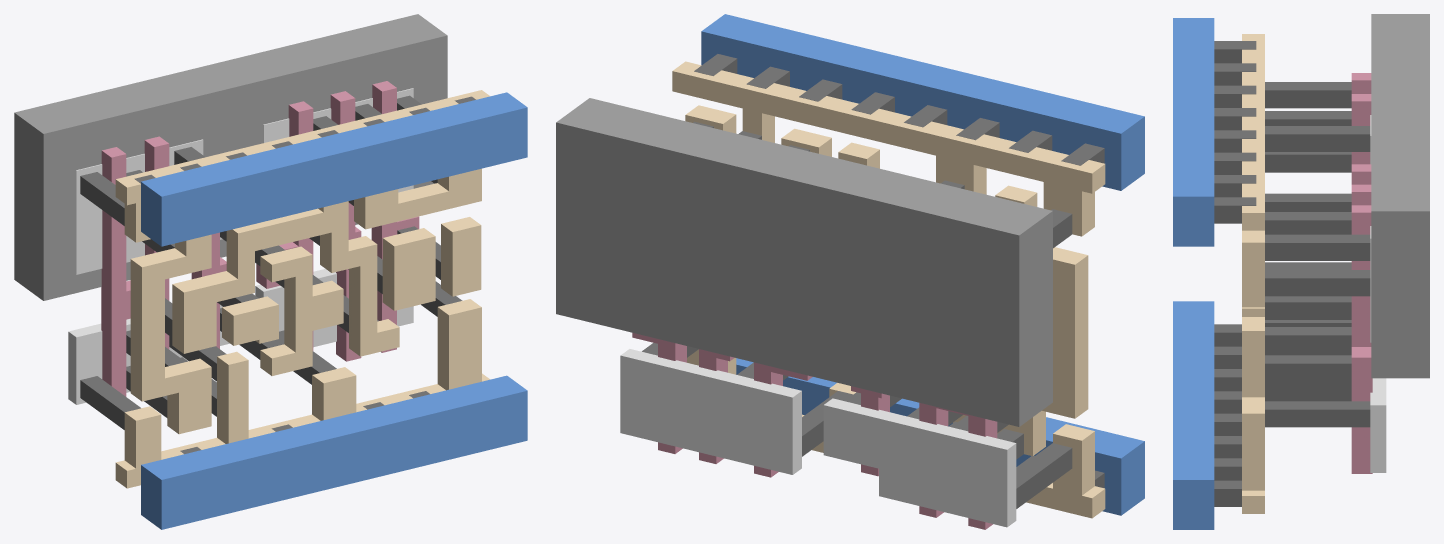
File: sky130_fd_sc_hd__a21bo_2.gds.gltf
3 views of the same model, side by side, from view 1: azimuth 30°, elevation 25°; view 2: azimuth 150°, elevation 25°; view 3: azimuth 270°, elevation 25° (orthographic). The views are drawn at different scales.
Visible parts, largest first — view 1: sky130_fd_sc_hd__a21bo_2_li1, sky130_fd_sc_hd__a21bo_2_met1, sky130_fd_sc_hd__a21bo_2_nwell, sky130_fd_sc_hd__a21bo_2_poly, sky130_fd_sc_hd__a21bo_2_licon, sky130_fd_sc_hd__a21bo_2_diff, sky130_fd_sc_hd__a21bo_2_mcon; view 2: sky130_fd_sc_hd__a21bo_2_nwell, sky130_fd_sc_hd__a21bo_2_li1, sky130_fd_sc_hd__a21bo_2_diff, sky130_fd_sc_hd__a21bo_2_met1, sky130_fd_sc_hd__a21bo_2_licon, sky130_fd_sc_hd__a21bo_2_mcon, sky130_fd_sc_hd__a21bo_2_poly; view 3: sky130_fd_sc_hd__a21bo_2_licon, sky130_fd_sc_hd__a21bo_2_nwell, sky130_fd_sc_hd__a21bo_2_met1, sky130_fd_sc_hd__a21bo_2_mcon, sky130_fd_sc_hd__a21bo_2_li1, sky130_fd_sc_hd__a21bo_2_poly, sky130_fd_sc_hd__a21bo_2_diff.
Boxes of the visible parts, <box> form: sky130_fd_sc_hd__a21bo_2_li1: <box>115,90,489,488</box>; sky130_fd_sc_hd__a21bo_2_met1: <box>141,92,527,529</box>; sky130_fd_sc_hd__a21bo_2_nwell: <box>14,14,447,300</box>; sky130_fd_sc_hd__a21bo_2_poly: <box>101,81,419,396</box>; sky130_fd_sc_hd__a21bo_2_licon: <box>80,95,462,429</box>; sky130_fd_sc_hd__a21bo_2_diff: <box>68,88,413,404</box>; sky130_fd_sc_hd__a21bo_2_mcon: <box>134,96,475,453</box>; sky130_fd_sc_hd__a21bo_2_nwell: <box>556,98,1052,426</box>; sky130_fd_sc_hd__a21bo_2_li1: <box>672,61,1105,518</box>; sky130_fd_sc_hd__a21bo_2_diff: <box>620,349,1016,527</box>; sky130_fd_sc_hd__a21bo_2_met1: <box>701,14,1144,515</box>; sky130_fd_sc_hd__a21bo_2_licon: <box>642,121,1072,508</box>; sky130_fd_sc_hd__a21bo_2_mcon: <box>694,54,1104,488</box>; sky130_fd_sc_hd__a21bo_2_poly: <box>632,332,997,529</box>; sky130_fd_sc_hd__a21bo_2_licon: <box>1265,82,1370,427</box>; sky130_fd_sc_hd__a21bo_2_nwell: <box>1371,14,1429,378</box>; sky130_fd_sc_hd__a21bo_2_met1: <box>1173,18,1214,529</box>; sky130_fd_sc_hd__a21bo_2_mcon: <box>1214,41,1256,506</box>; sky130_fd_sc_hd__a21bo_2_li1: <box>1242,34,1264,513</box>; sky130_fd_sc_hd__a21bo_2_poly: <box>1351,73,1372,473</box>; sky130_fd_sc_hd__a21bo_2_diff: <box>1370,115,1386,472</box>.
Size of the model in its own units: 4.06 by 3.2 by 2.24.
